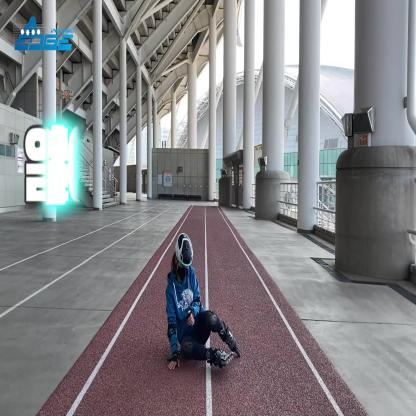Fall_Down: (165, 232, 236, 372)
